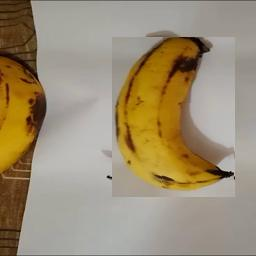Banana Semifresh: (112, 37, 235, 197)
